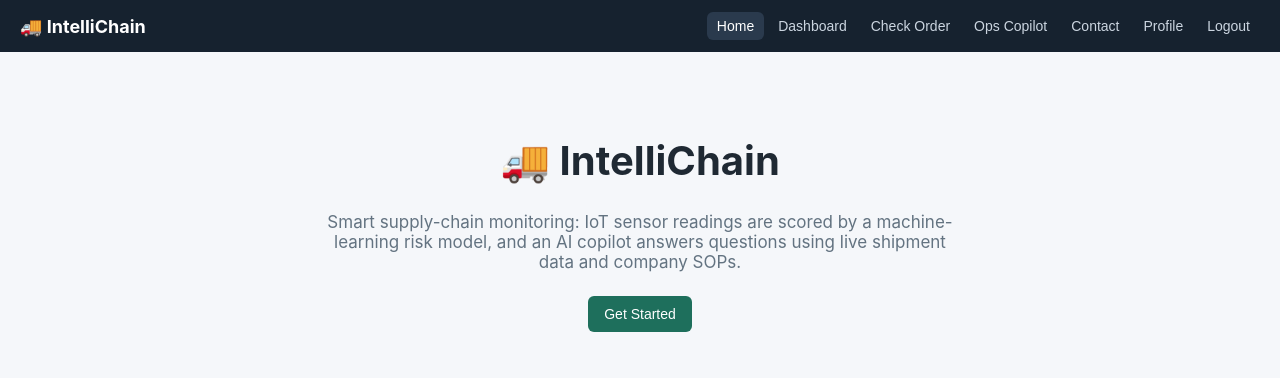
Test: assistant answers render bold text instead of raw asterisks
What coordinates should you click on to do the following:
click the button "Ops Copilot"
I would click on:
 (1011, 26)
Its box is [964, 12, 1057, 40].
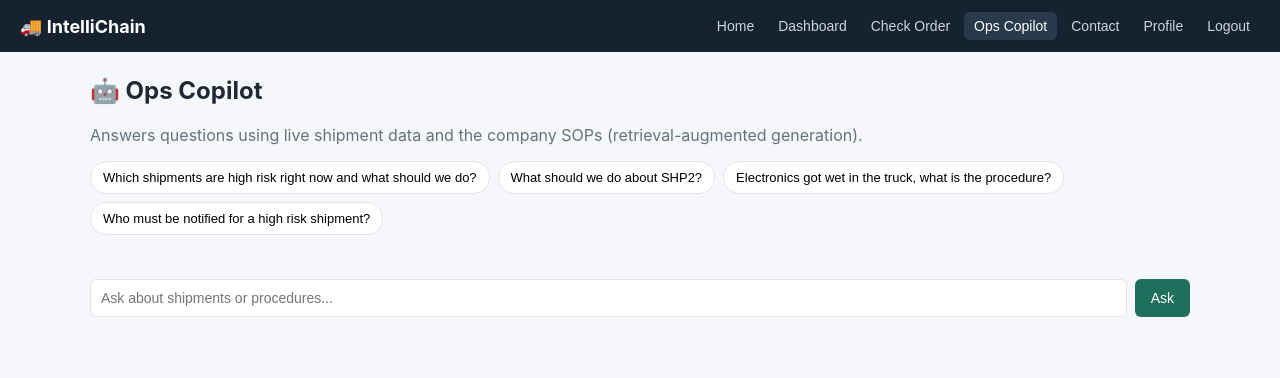
What coordinates should you click on to do the following:
click the button "What should we do about SHP2?"
I would click on:
 (606, 177)
Its box is [498, 161, 715, 194].
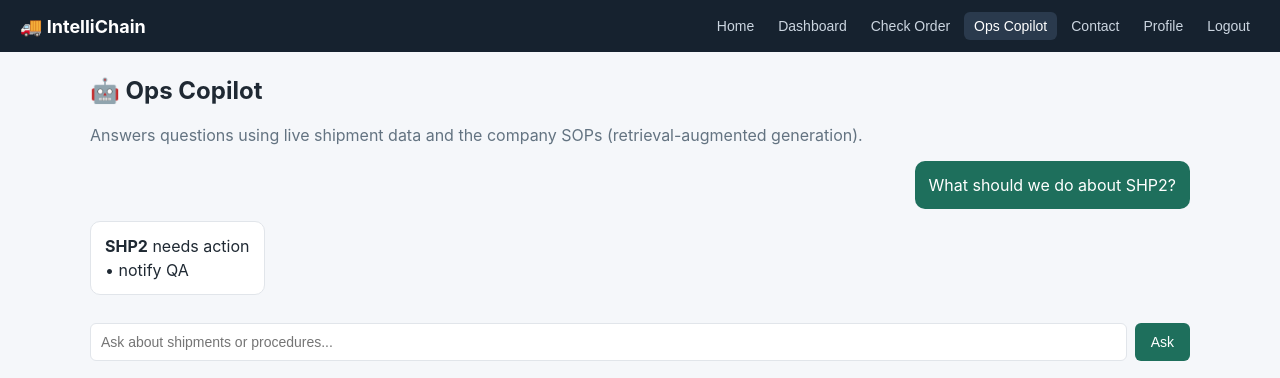
Expected: the text "SHP2" is shown, [105, 236, 148, 256]
Expected: the text "SHP2 needs action • notify QA" is shown, [105, 234, 250, 282]
